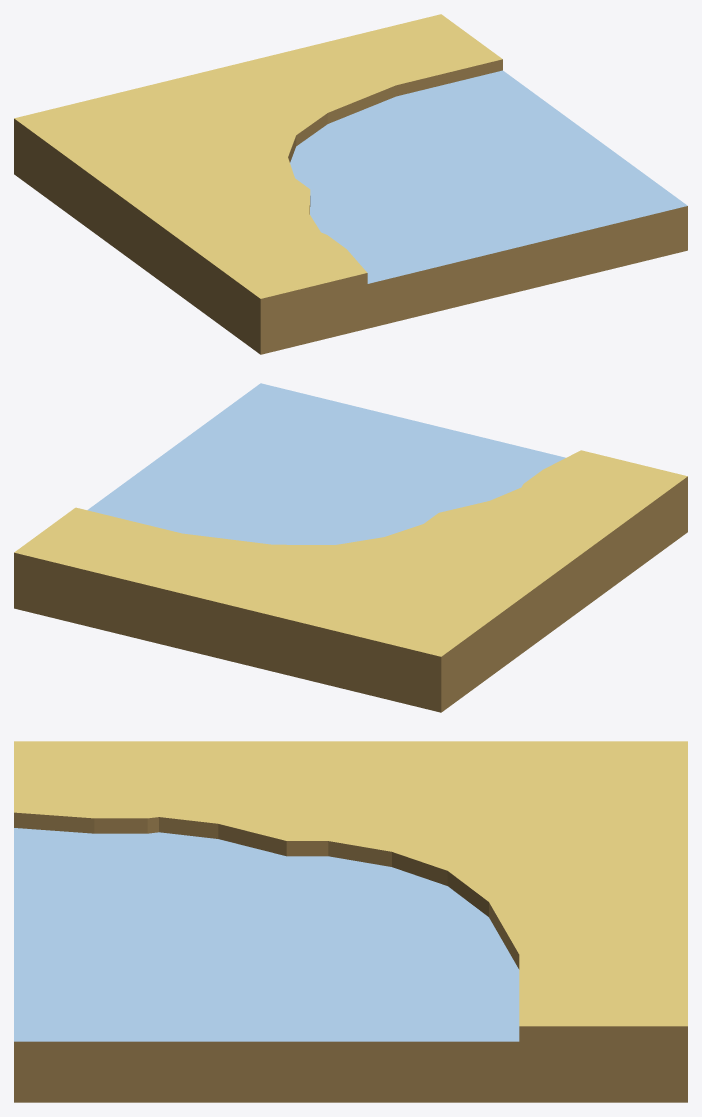
File: Terrain_Tile_Sand_Water_Bank_Corner_03.fbx
3 renders of one model, top to bottom at view 1: azimuth 30°, elevation 25°; view 2: azimuth 150°, elevation 25°; view 3: azimuth 270°, elevation 25°, orthographic. The views are drawn at different scales.
Visible parts, largest first — view 1: Terrain_Tile_Sand_Water_Bank_Corner_03; view 2: Terrain_Tile_Sand_Water_Bank_Corner_03; view 3: Terrain_Tile_Sand_Water_Bank_Corner_03.
Boxes of the visible parts, left/top/right/bottom form: Terrain_Tile_Sand_Water_Bank_Corner_03: left=14, top=14, right=687, bottom=354; Terrain_Tile_Sand_Water_Bank_Corner_03: left=14, top=383, right=687, bottom=712; Terrain_Tile_Sand_Water_Bank_Corner_03: left=14, top=741, right=687, bottom=1102.
Bounding box in the file's own units: 126 × 15.75 × 126.
